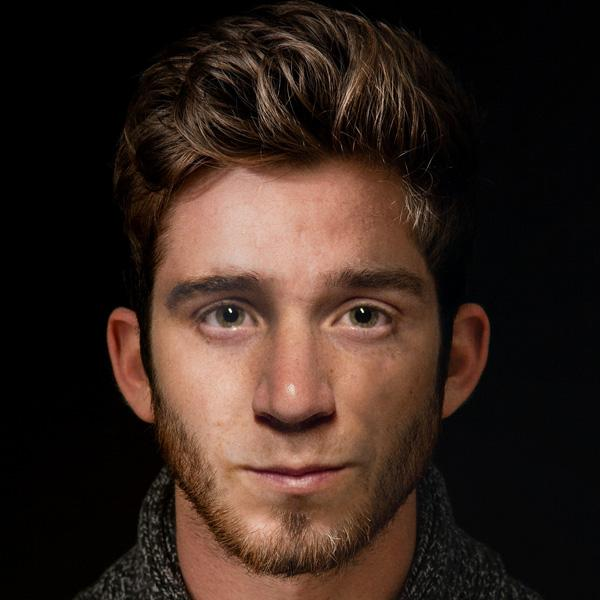Eyes: (181, 288, 268, 349), (321, 294, 405, 341)
